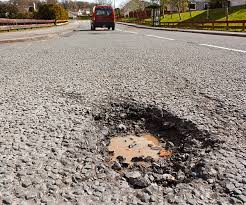pothole: (77, 99, 223, 188)
